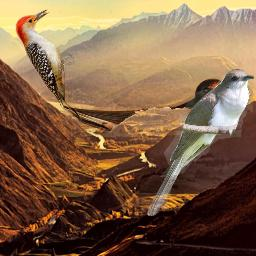Cuckoo: (146, 69, 254, 217)
Swallow: (63, 77, 228, 137)
Woodpecker: (15, 9, 82, 121)
